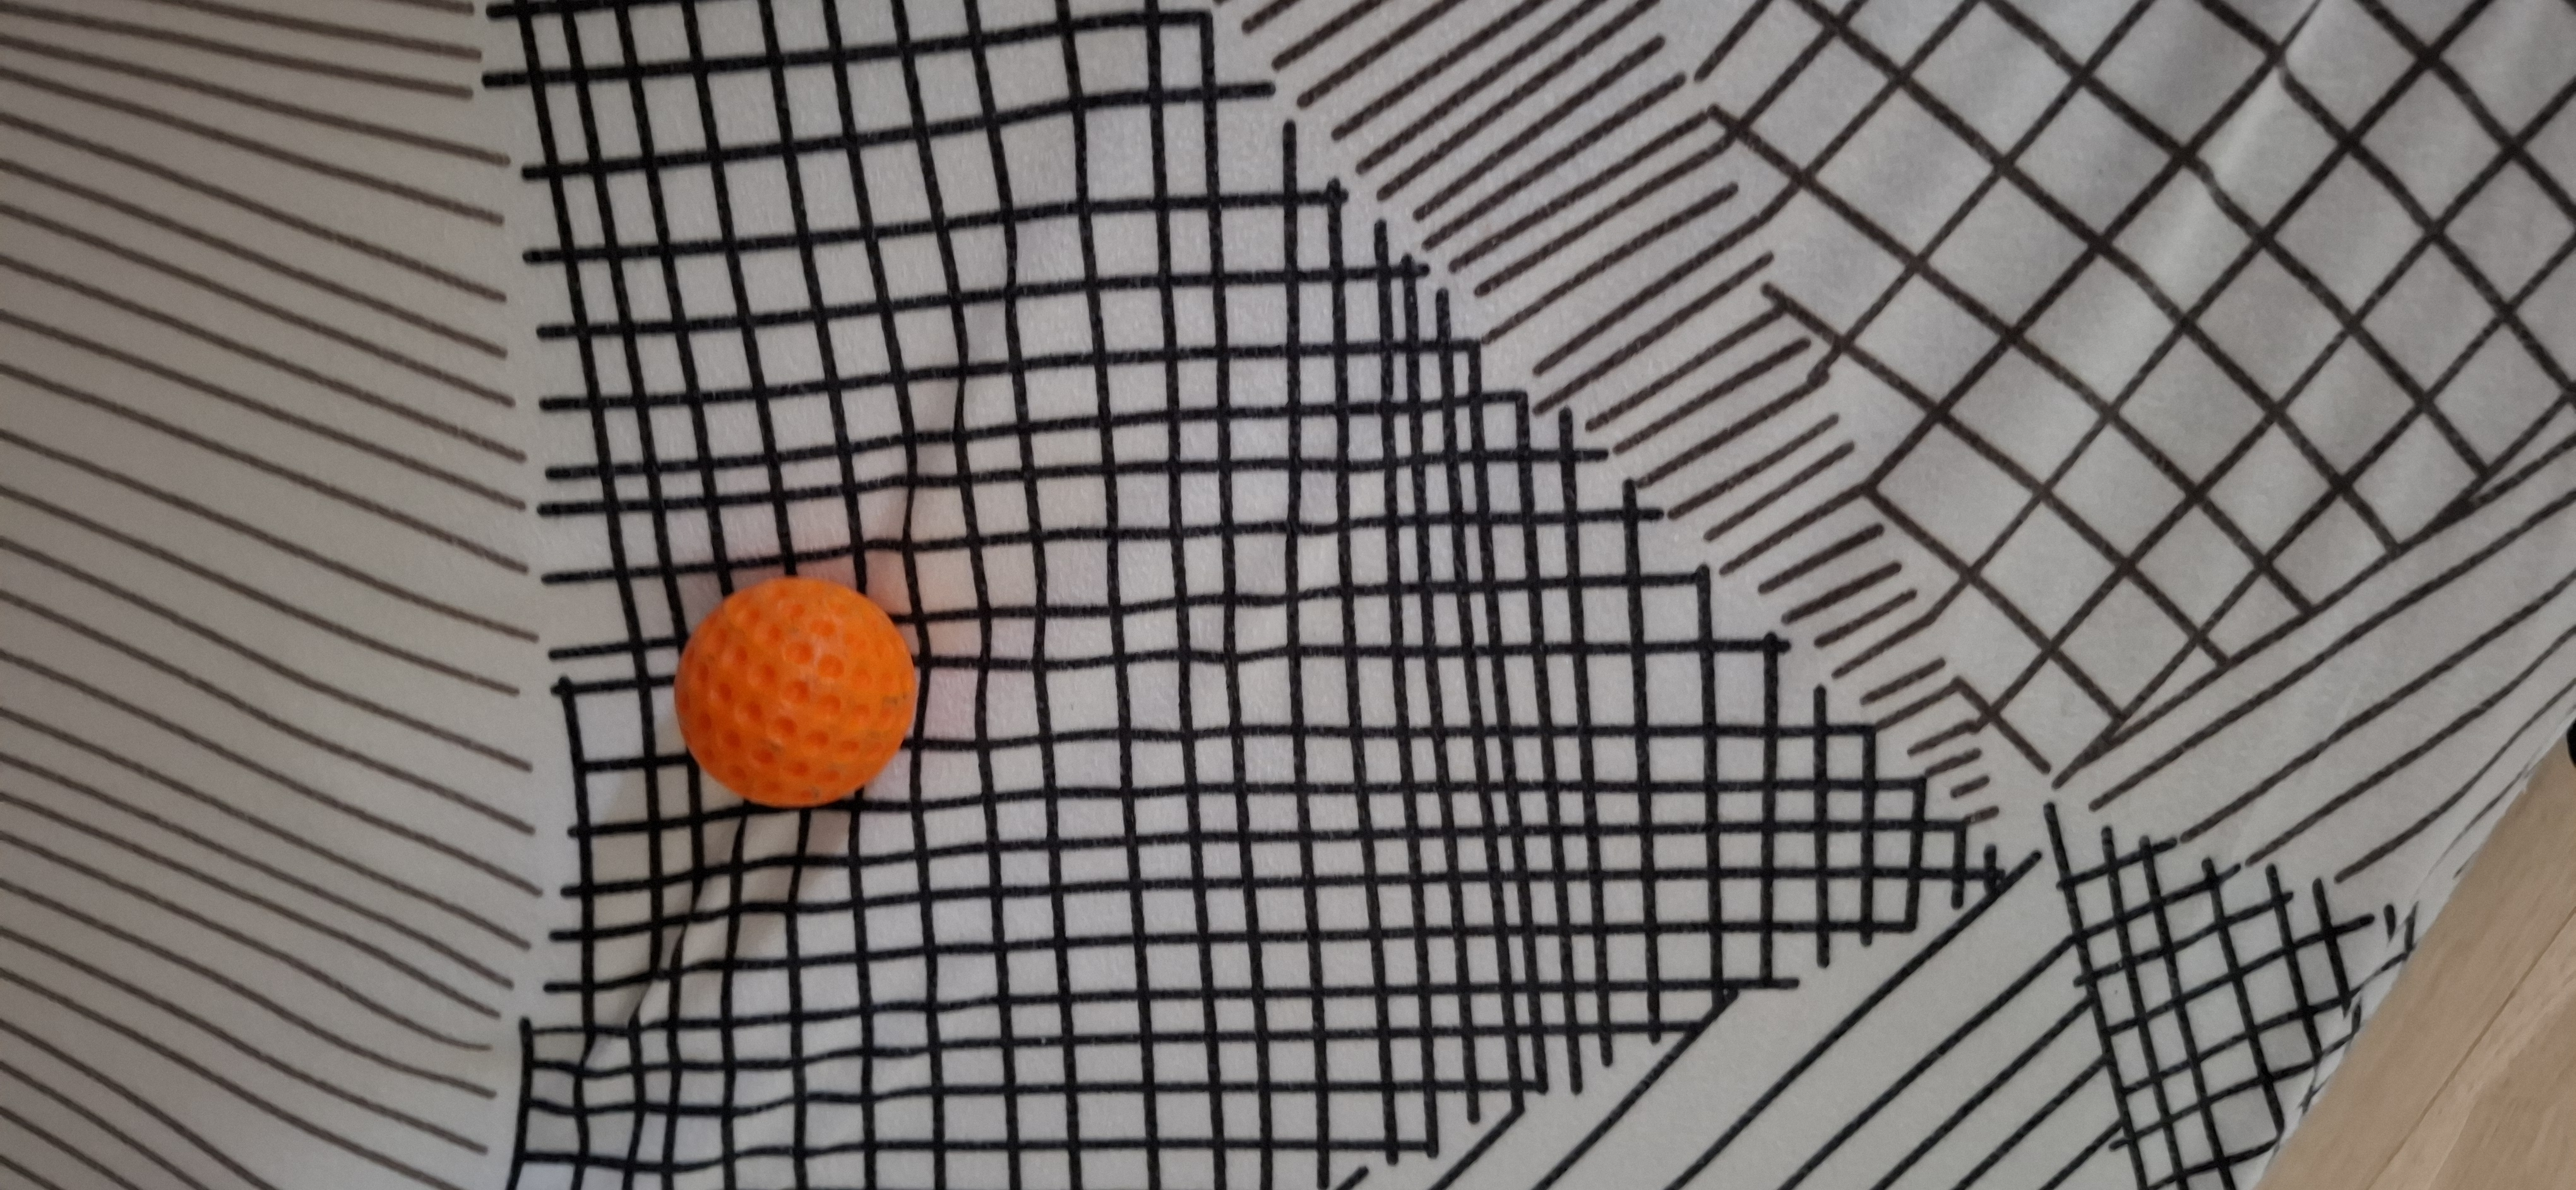ball: (670, 570, 928, 822)
